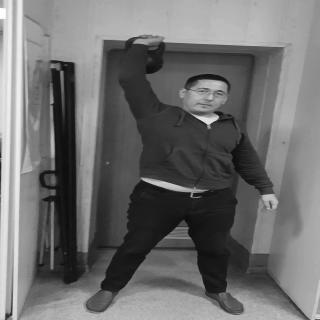kettlebell: (123, 37, 164, 76)
